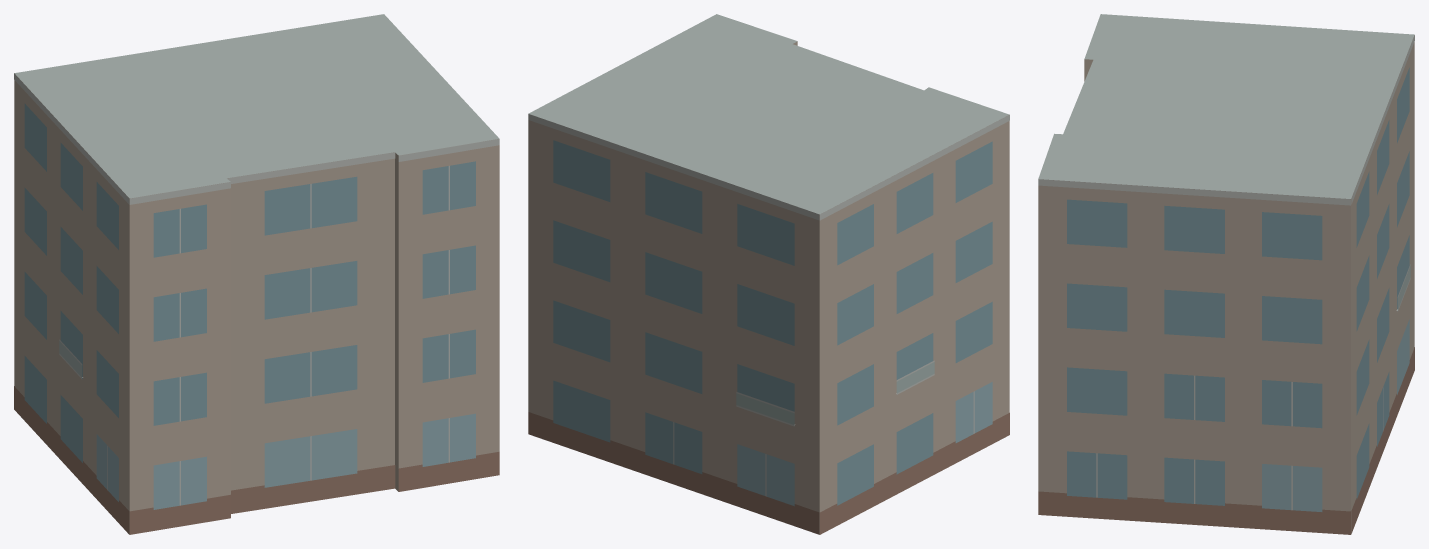
The model's file is survey-upis-32630199.glb.
3 views of the same model, side by side, from view 1: azimuth 30°, elevation 25°; view 2: azimuth 150°, elevation 25°; view 3: azimuth 270°, elevation 25° (orthographic). The views are drawn at different scales.
Visible parts, largest first — view 1: survey-upis-32630199.tmp; view 2: survey-upis-32630199.tmp; view 3: survey-upis-32630199.tmp.
Boxes of the visible parts, x1,y1,x2,y2 form: survey-upis-32630199.tmp: (14, 14, 499, 534); survey-upis-32630199.tmp: (528, 14, 1009, 534); survey-upis-32630199.tmp: (1038, 14, 1414, 534).
Bounding box in the file's own units: 15.03 × 12.7 × 12.92.
